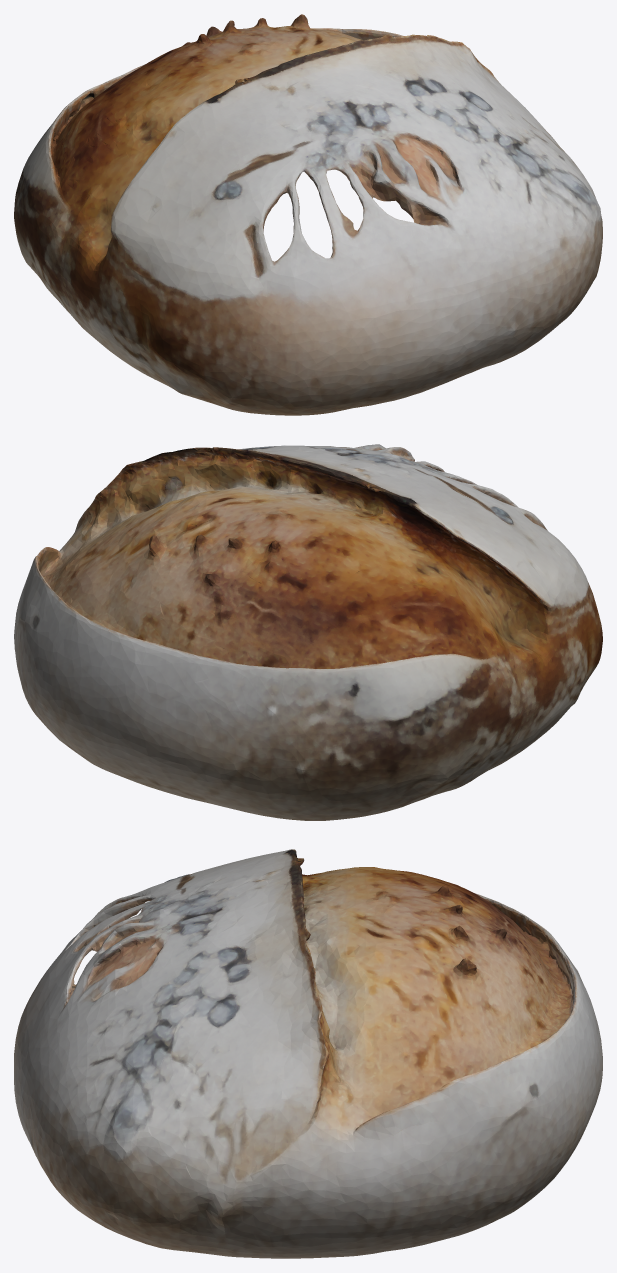
File: loaf.glb
3 views of the same model, one above another, from view 1: azimuth 30°, elevation 25°; view 2: azimuth 150°, elevation 25°; view 3: azimuth 270°, elevation 25° (orthographic). The views are drawn at different scales.
Visible parts, largest first — view 1: geometry_0; view 2: geometry_0; view 3: geometry_0.
Part boxes in pixels (box(x1,y1,x2,y2)): geometry_0: box(14, 14, 602, 415); geometry_0: box(14, 444, 602, 820); geometry_0: box(14, 849, 602, 1258).
Size of the model in its own units: 0.995 by 0.5493 by 0.9916.
1 material, 1 textured.
